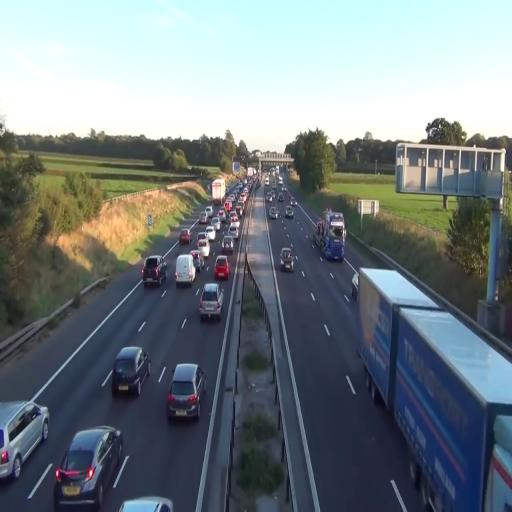vehicle: (353, 262, 512, 508), (53, 426, 126, 511), (0, 400, 50, 482), (166, 363, 204, 421), (112, 344, 150, 396), (322, 210, 346, 262), (322, 209, 345, 262), (120, 493, 174, 512), (198, 281, 222, 322), (175, 253, 197, 286), (142, 255, 163, 288), (279, 246, 295, 272), (214, 256, 230, 282), (268, 205, 278, 220), (284, 205, 294, 218)
